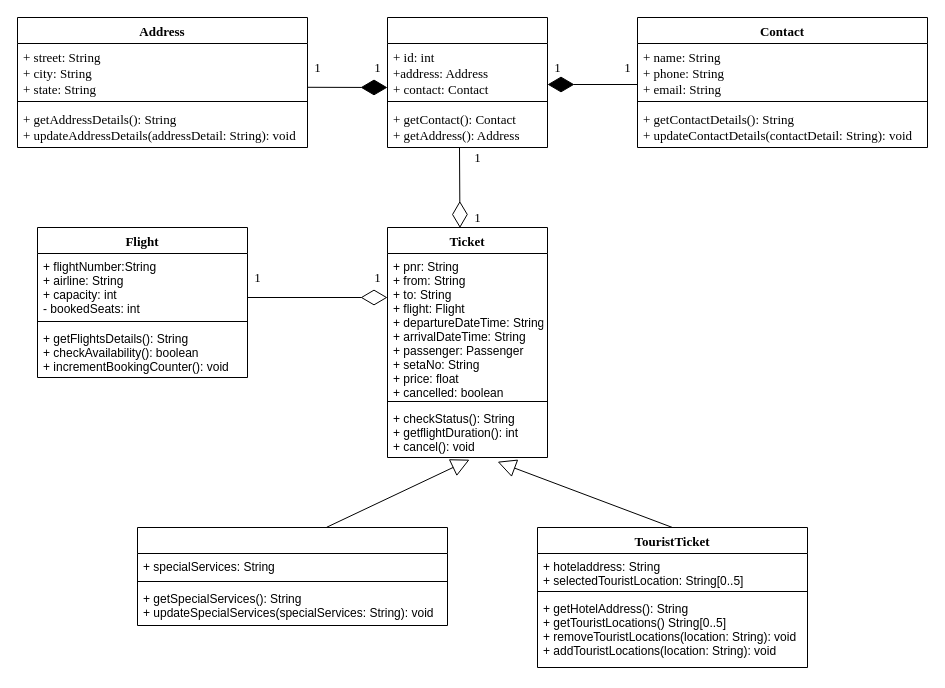
This 945x688 diagram has some shape labels left out. The box of each missing label's shape, as (x1, y1, x2, y2) in pixels:
Passenger: (386, 16, 548, 148)
RegularTicket: (136, 526, 448, 626)
